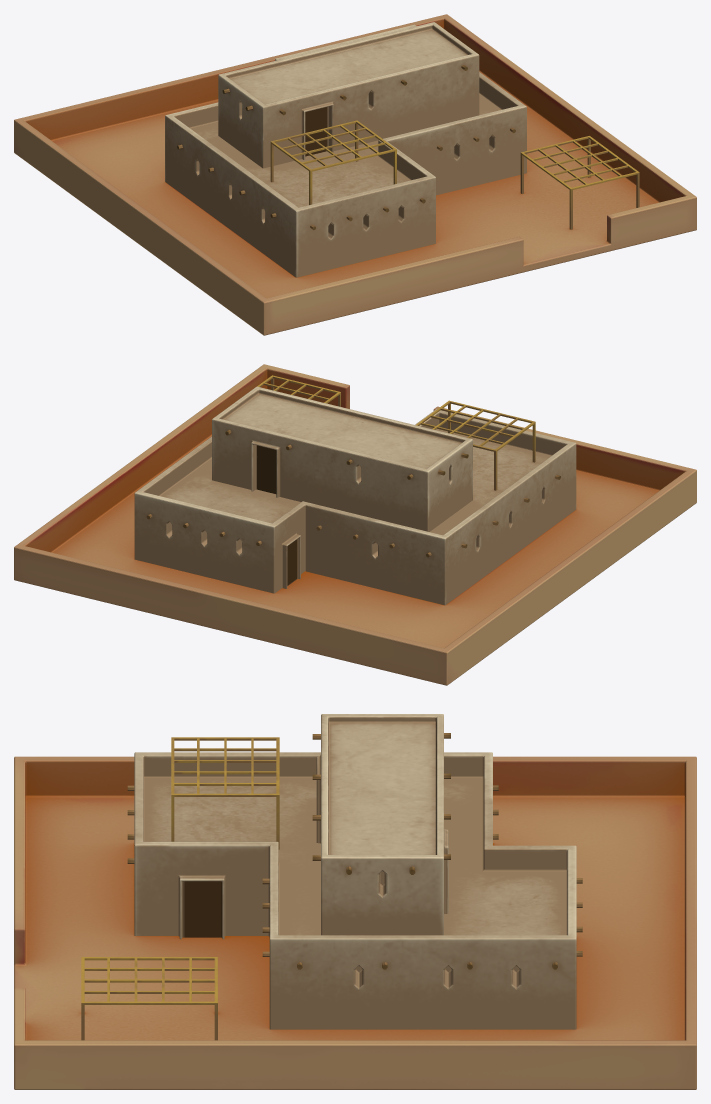
The model's file is house.glb.
3 renders of one model, top to bottom at view 1: azimuth 30°, elevation 25°; view 2: azimuth 150°, elevation 25°; view 3: azimuth 270°, elevation 25°, orthographic. The views are drawn at different scales.
Visible parts, largest first — view 1: House; view 2: House; view 3: House.
Part boxes in pixels (left/top/right/bottom): House: left=14, top=14, right=696, bottom=335; House: left=14, top=364, right=696, bottom=685; House: left=14, top=714, right=696, bottom=1089.
Bounding box in the file's own units: 10 × 2.63 × 10.
Materials: 1 (1 with a texture image).
